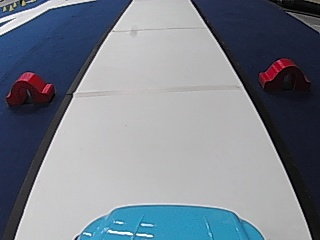bridge: (4, 68, 56, 108), (255, 55, 311, 92)
